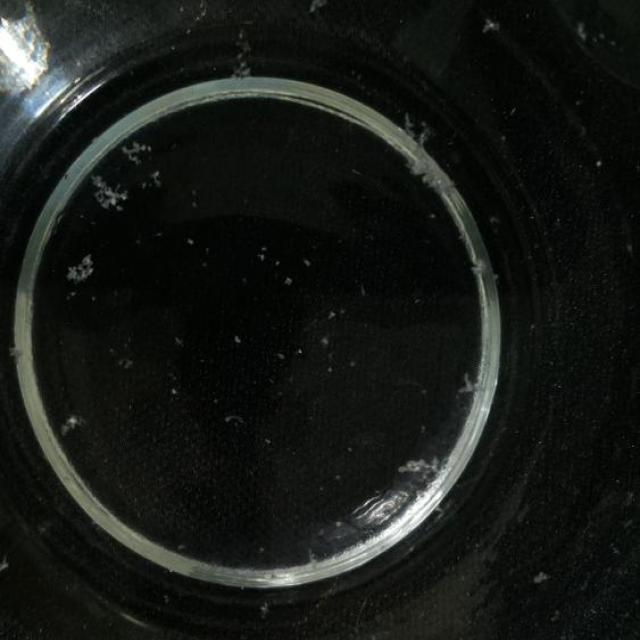fiber: (399, 113, 458, 199), (88, 172, 130, 219), (398, 450, 447, 480), (232, 34, 252, 90), (120, 136, 159, 164), (65, 253, 96, 284), (60, 414, 86, 446), (459, 367, 485, 398), (571, 16, 594, 45), (144, 166, 167, 194), (481, 18, 502, 34), (304, 2, 326, 15), (230, 336, 245, 350), (259, 600, 273, 614), (0, 558, 16, 568), (320, 334, 332, 346), (187, 234, 197, 248), (283, 276, 295, 286), (171, 382, 178, 394)
